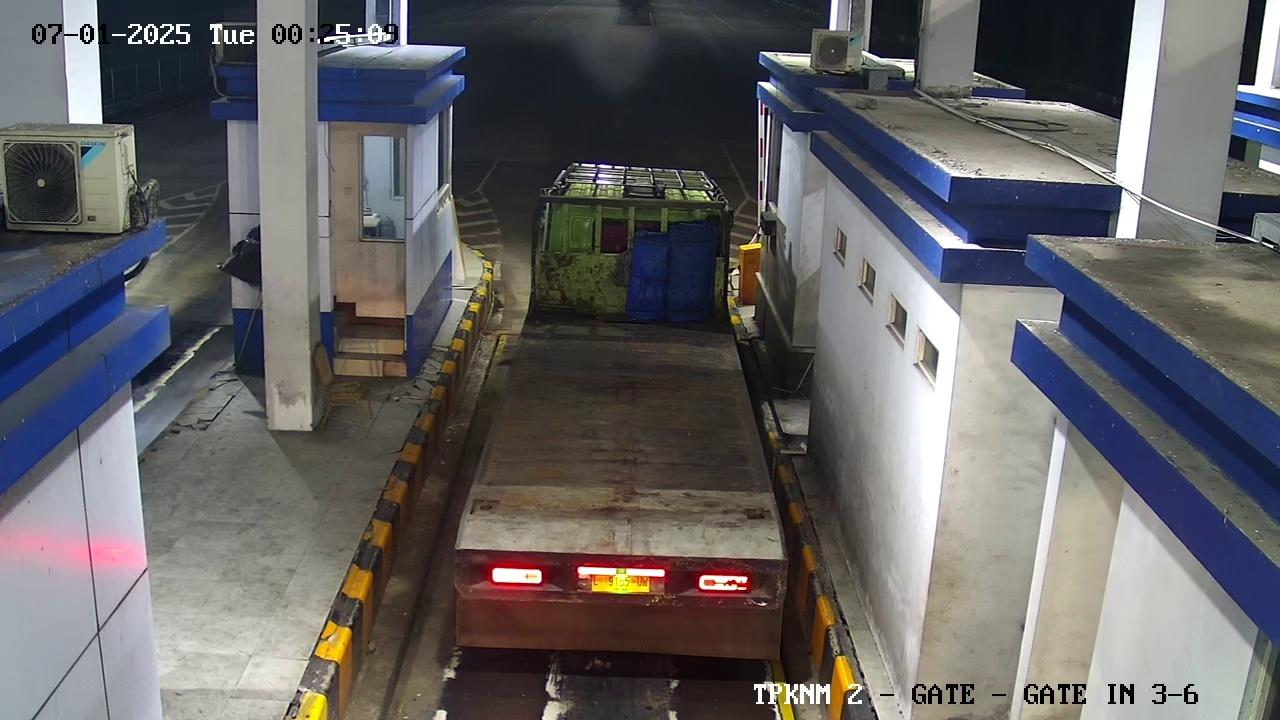plate_number: (583, 561, 664, 600)
